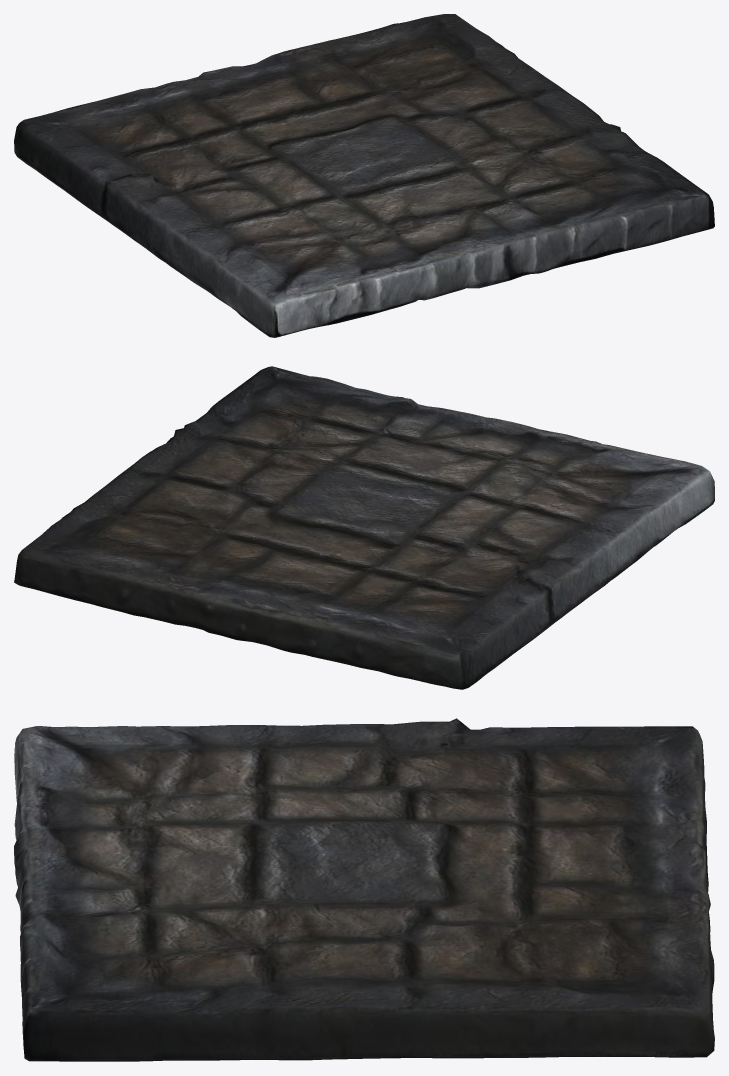
File: t_dungeon_ceiling_til.glb
The picture shows the model from 3 angles, top to bottom: view 1: azimuth 30°, elevation 25°; view 2: azimuth 150°, elevation 25°; view 3: azimuth 270°, elevation 25°; orthographic projection. The views are drawn at different scales.
Size of the model in its own units: 1.98 by 0.1776 by 1.99.
Materials: 1 (1 with a texture image).
